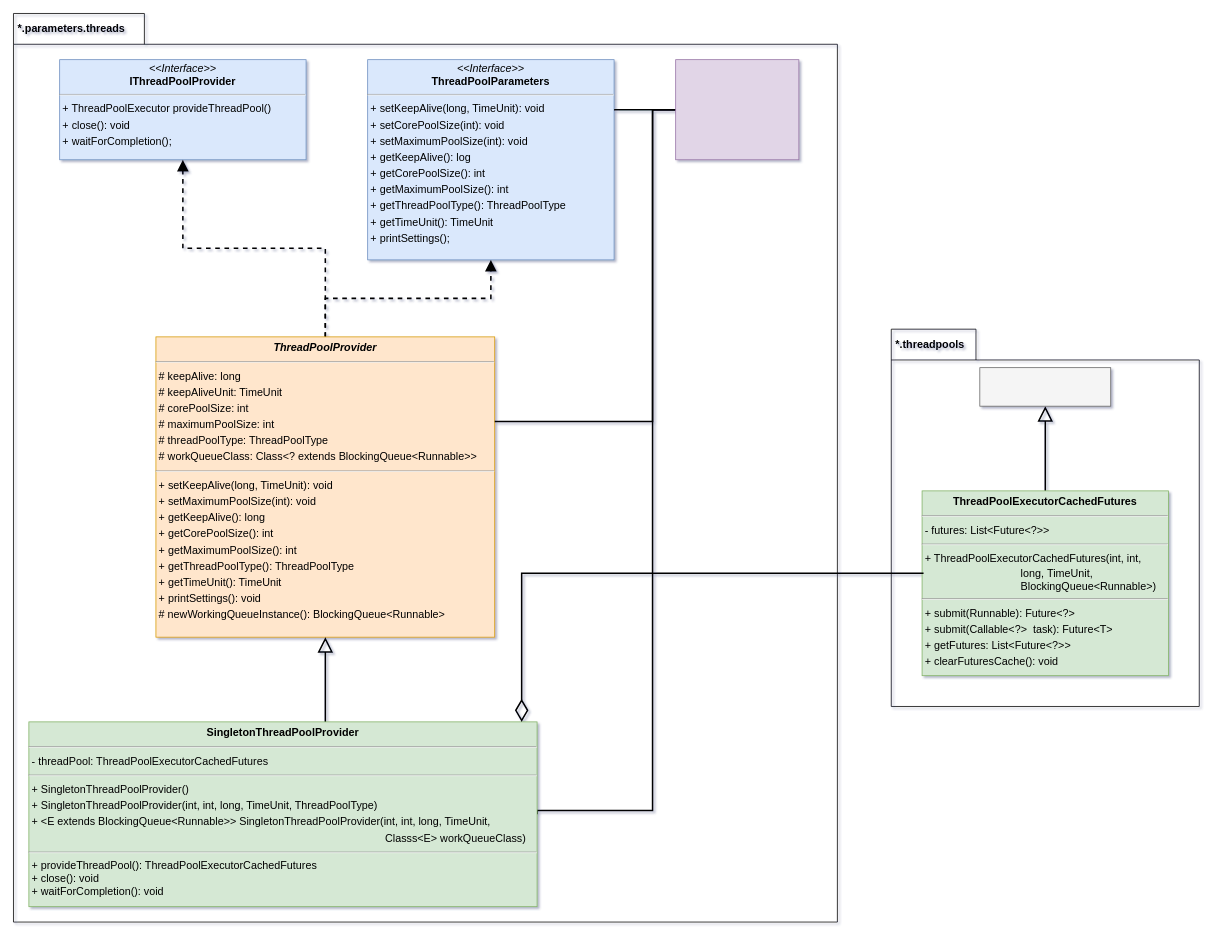
Some shapes in this 1217 by 940 pixel diagram are drawn without their labels. Here are the shapes that lost their labels. From the top down, the centre of each, then its label:
At point 737,109: "<<enumeration>> ThreadPoolType FIXED CACHED CUSTOM".
At point 1045,386: "ThreadPoolExecutor".
